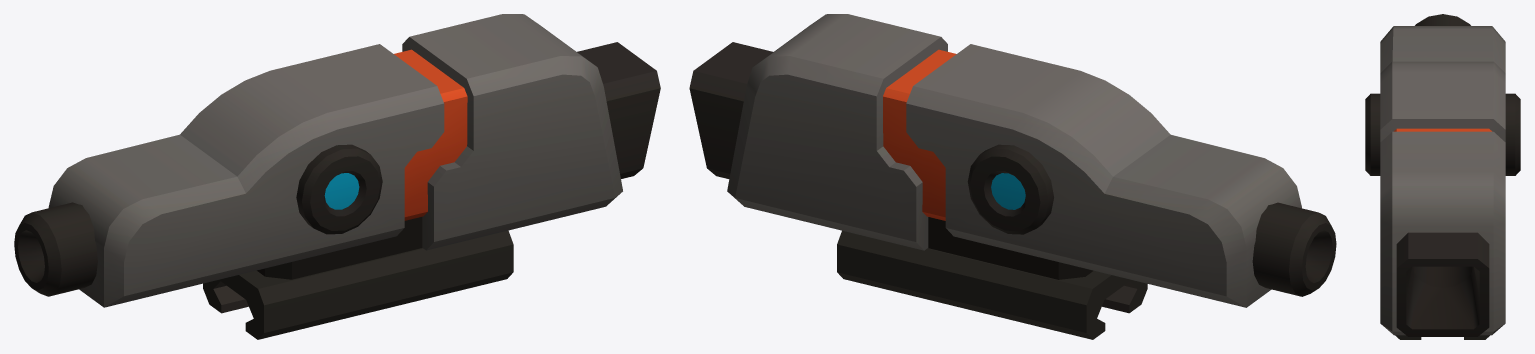
File: Sight_06.fbx
The picture shows the model from 3 angles, left to right: view 1: azimuth 30°, elevation 25°; view 2: azimuth 150°, elevation 25°; view 3: azimuth 270°, elevation 25°; orthographic projection. The views are drawn at different scales.
Parts seen in each view (by area): view 1: Sight_06; view 2: Sight_06; view 3: Sight_06.
Part boxes in pixels (box(x1,y1,x2,y2)): Sight_06: box(14, 14, 660, 339); Sight_06: box(689, 14, 1336, 339); Sight_06: box(1365, 14, 1520, 339).
Size of the model in its own units: 22.42 by 7.58 by 5.65.
